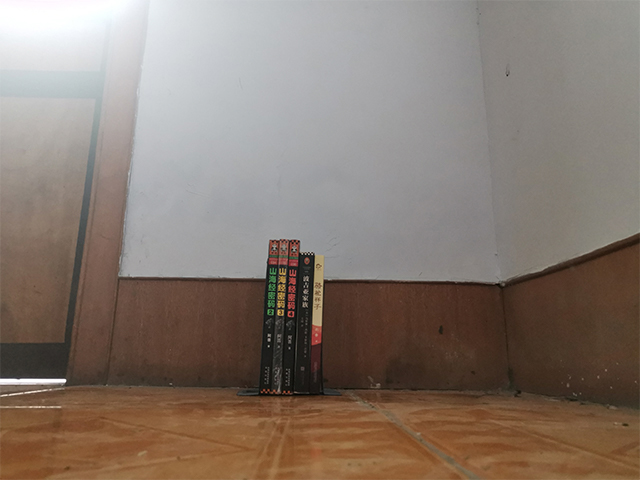book: (257, 235, 328, 399)
